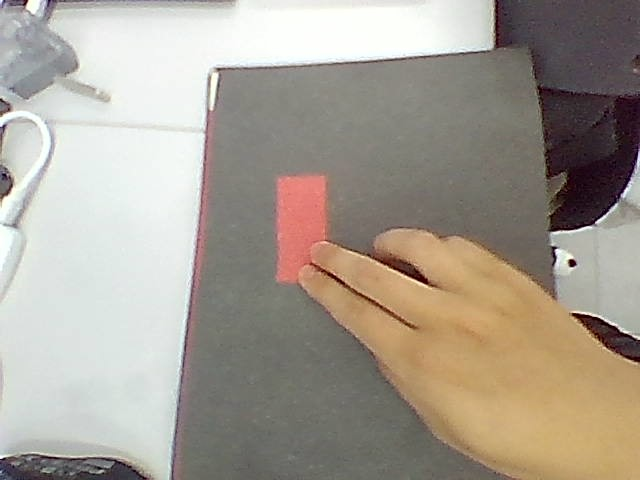card: (276, 175, 326, 283)
